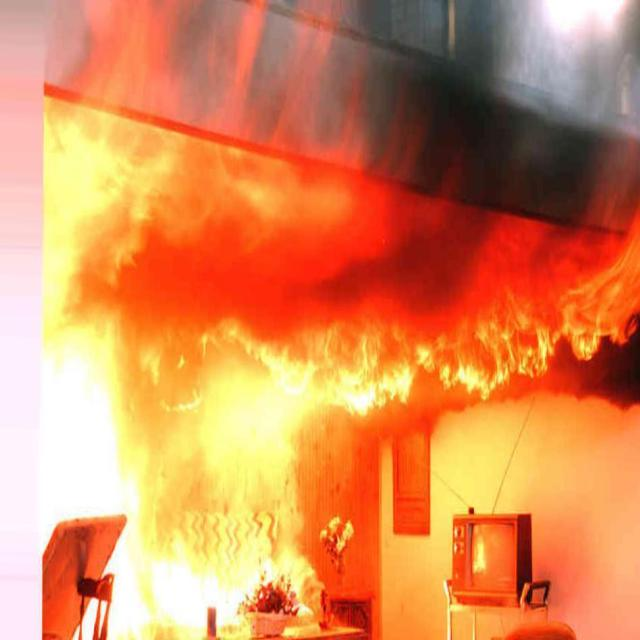fire: (42, 81, 638, 581)
